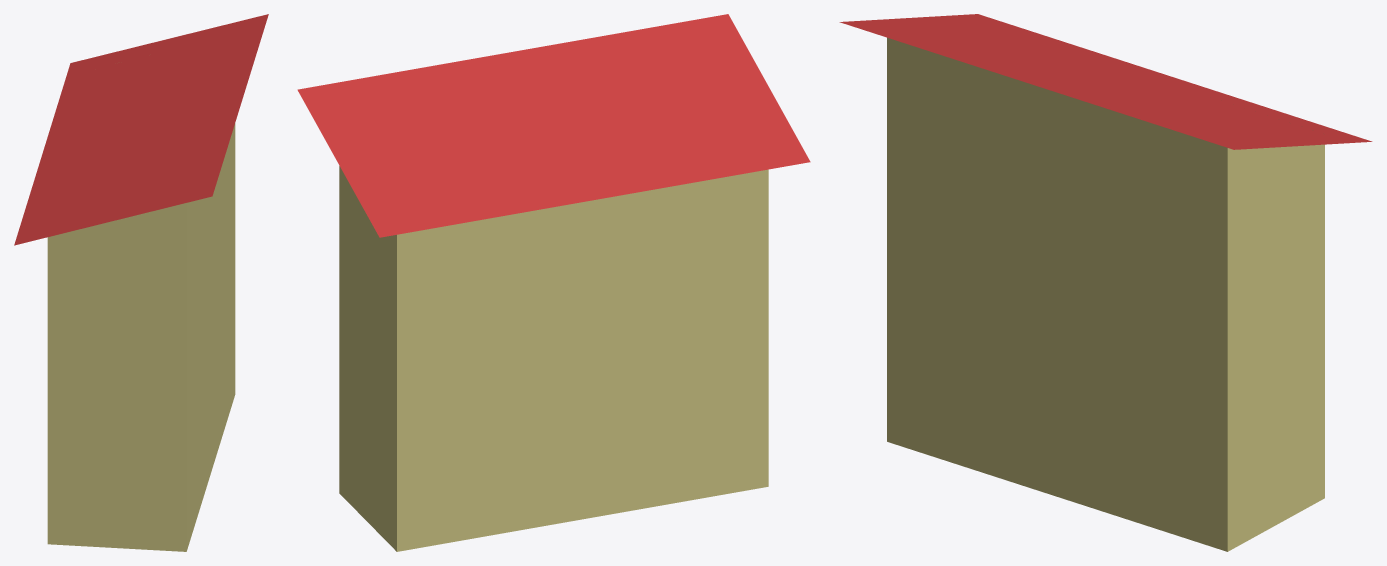
3 views of the same model, side by side, from view 1: azimuth 30°, elevation 25°; view 2: azimuth 150°, elevation 25°; view 3: azimuth 270°, elevation 25° (orthographic). The views are drawn at different scales.
Bounding box in the file's own units: 7.07 × 7.8 × 6.8.
